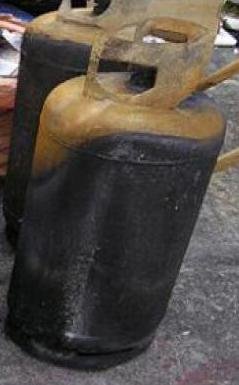cylinder: (1, 1, 239, 385)
